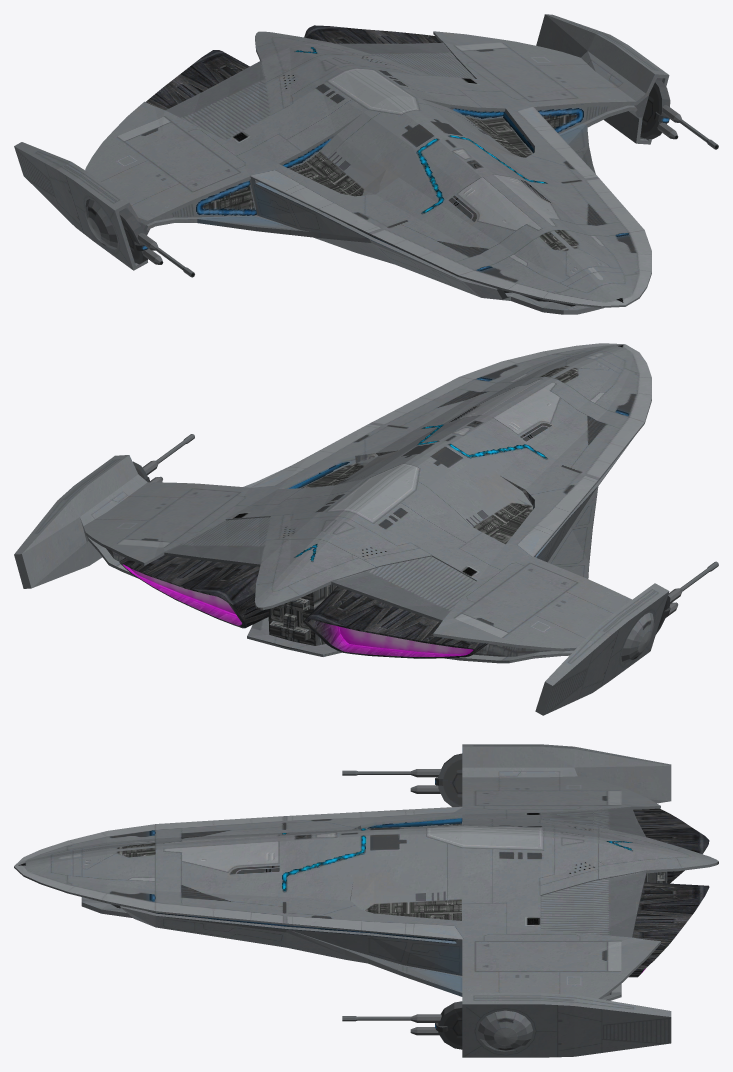
The model's file is Phantom.obj.
The picture shows the model from 3 angles, top to bottom: view 1: azimuth 30°, elevation 25°; view 2: azimuth 150°, elevation 25°; view 3: azimuth 270°, elevation 25°; orthographic projection. The views are drawn at different scales.
Visible parts, largest first — view 1: Hull, Lights; view 2: Hull, Lights; view 3: Hull, Lights.
Boxes of the visible parts, x1=… form: Hull: x1=14, y1=14, x2=718, y2=314; Lights: x1=142, y1=47, x2=668, y2=270; Hull: x1=14, y1=343, x2=718, y2=715; Lights: x1=130, y1=377, x2=628, y2=654; Hull: x1=14, y1=744, x2=718, y2=1057; Lights: x1=149, y1=780, x2=631, y2=1028.
Size of the model in its own units: 29.11 by 5.57 by 33.22.
